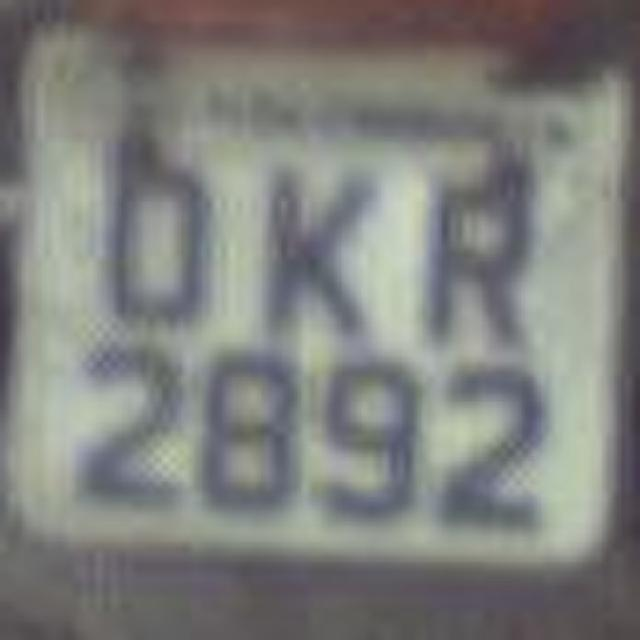2: (60, 345, 205, 540), (429, 340, 576, 525)
8: (191, 344, 324, 524)
9: (316, 344, 432, 524)
D: (88, 148, 224, 348)
K: (235, 164, 380, 344)
R: (405, 140, 540, 348)
